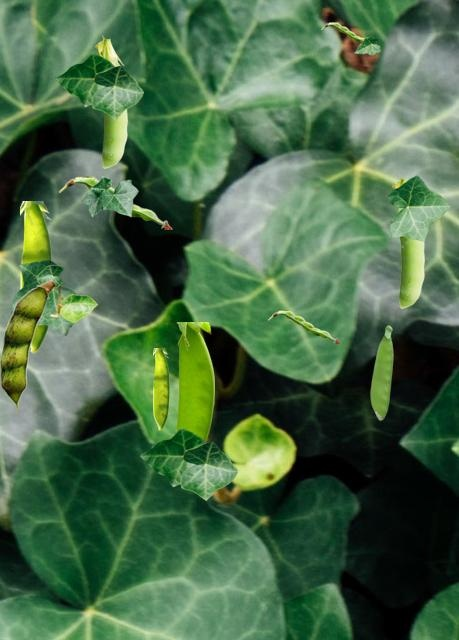pea: (0, 280, 55, 412), (59, 176, 171, 228), (20, 201, 51, 352), (176, 322, 213, 441), (95, 35, 126, 167), (392, 175, 423, 307), (268, 310, 339, 342), (370, 325, 392, 419), (153, 348, 168, 429), (321, 22, 364, 42)
